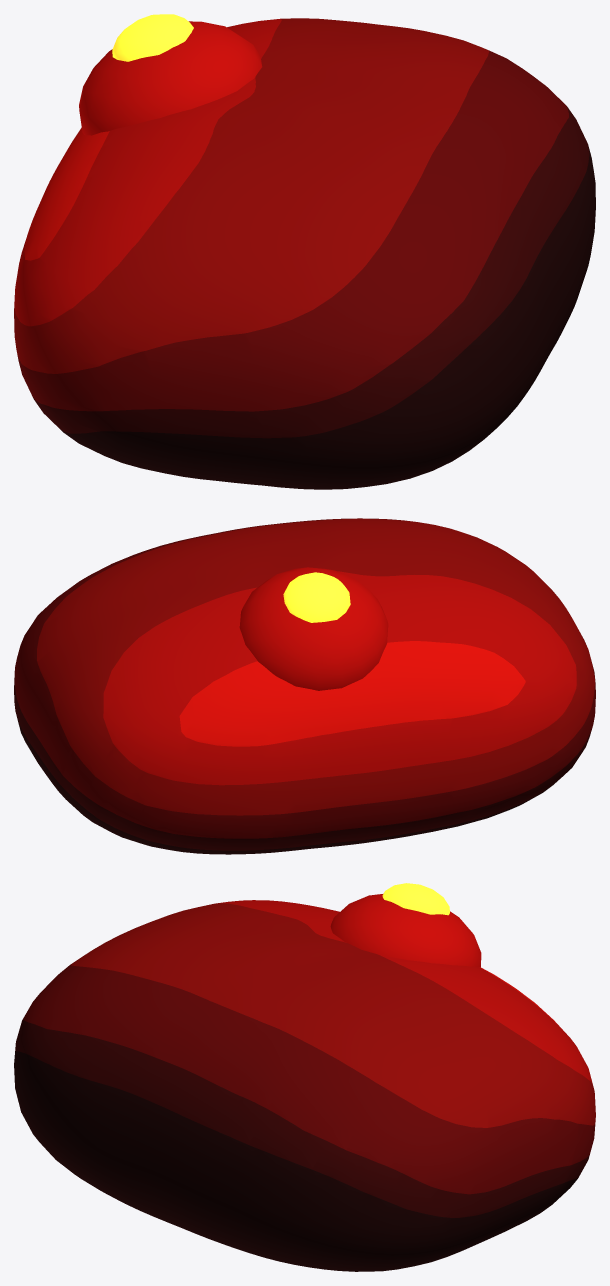
Rendered from dark_ember.glb.
3 renders of one model, top to bottom at view 1: azimuth 30°, elevation 25°; view 2: azimuth 150°, elevation 25°; view 3: azimuth 270°, elevation 25°, orthographic. The views are drawn at different scales.
Parts seen in each view (by area): view 1: pod, lamp_dome, lamp; view 2: pod, lamp_dome, lamp; view 3: pod, lamp_dome, lamp.
Part boxes in pixels (box(x1,y1,x2,y2)): pod: box(14, 18, 595, 489); lamp_dome: box(79, 21, 262, 135); lamp: box(112, 14, 193, 61); pod: box(14, 518, 595, 854); lamp_dome: box(239, 567, 388, 690); lamp: box(283, 572, 350, 622); pod: box(14, 900, 595, 1271); lamp_dome: box(330, 894, 481, 967); lamp: box(382, 883, 449, 915).
Size of the model in its own units: 10.62 by 5.94 by 10.81.
